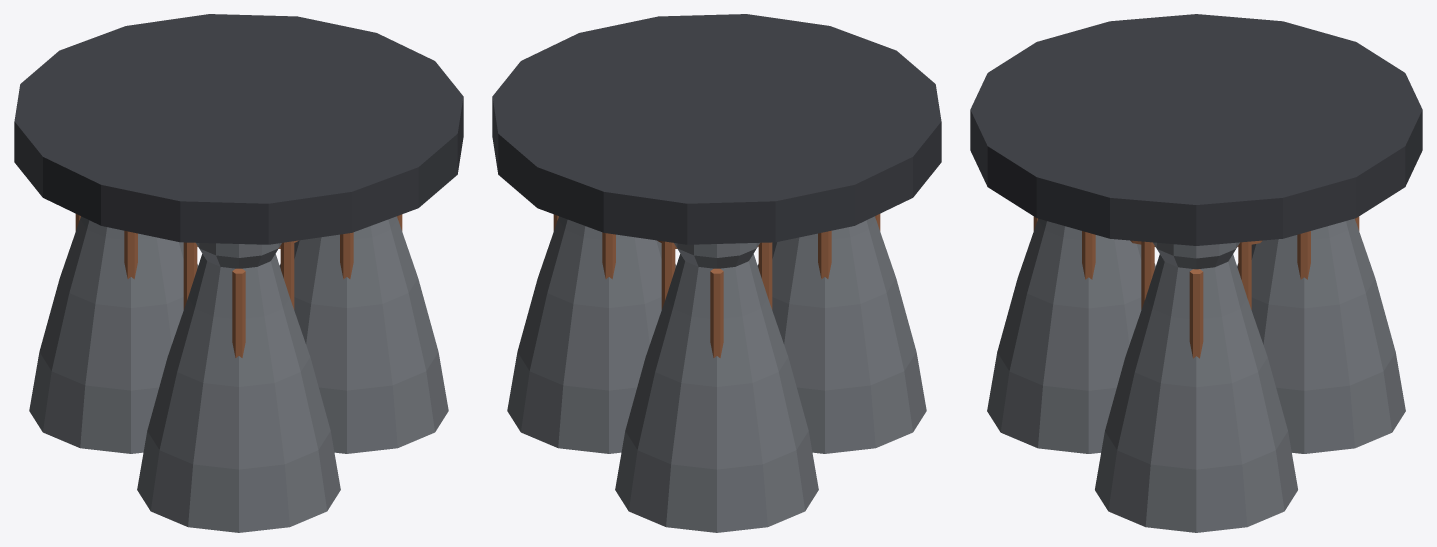
Rendered from Eng_M_Cluster3.fbx.
3 renders of one model, left to right at view 1: azimuth 30°, elevation 25°; view 2: azimuth 150°, elevation 25°; view 3: azimuth 270°, elevation 25°, orthographic.
Parts seen in each view (by area): view 1: Eng_M_Cluster3; view 2: Eng_M_Cluster3; view 3: Eng_M_Cluster3.
Boxes of the visible parts, x1,y1,x2,y2 form: Eng_M_Cluster3: [14, 14, 463, 532]; Eng_M_Cluster3: [492, 14, 941, 532]; Eng_M_Cluster3: [970, 14, 1422, 532].
Bounding box in the file's own units: 2 × 1.6 × 2.
Materials: 1 (1 with a texture image).
